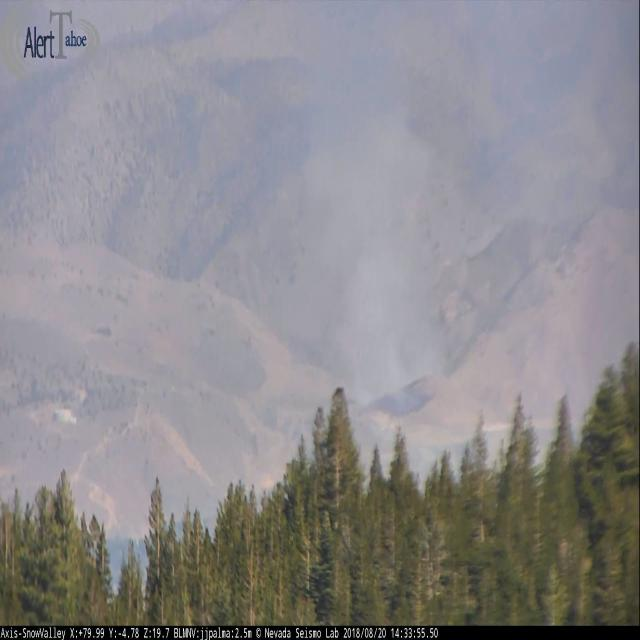smoke: (344, 245, 440, 404)
